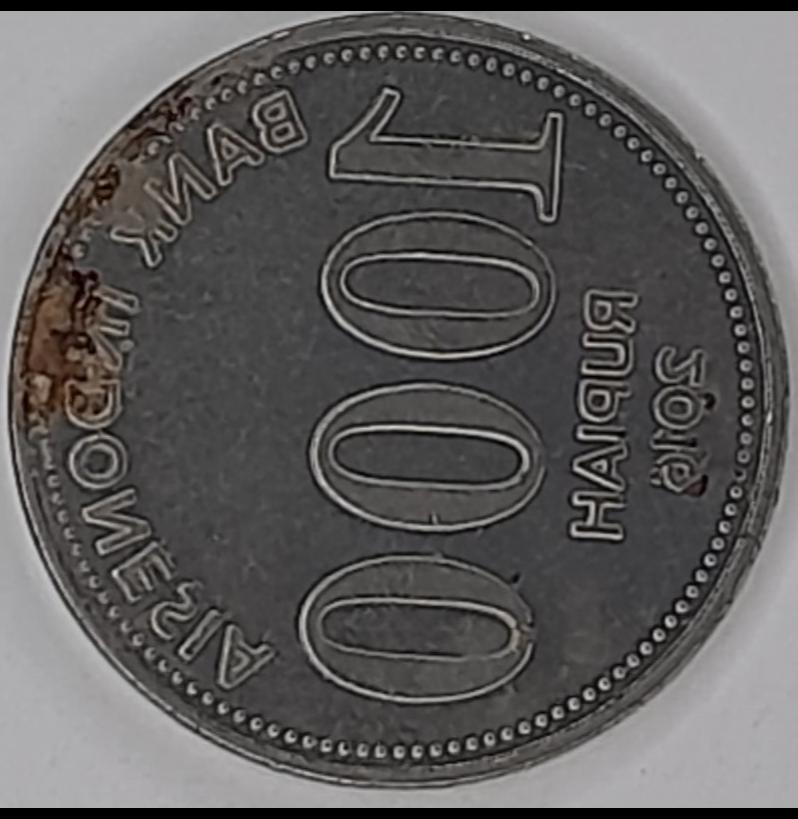coin_1000_e2016: (14, 16, 787, 819)
